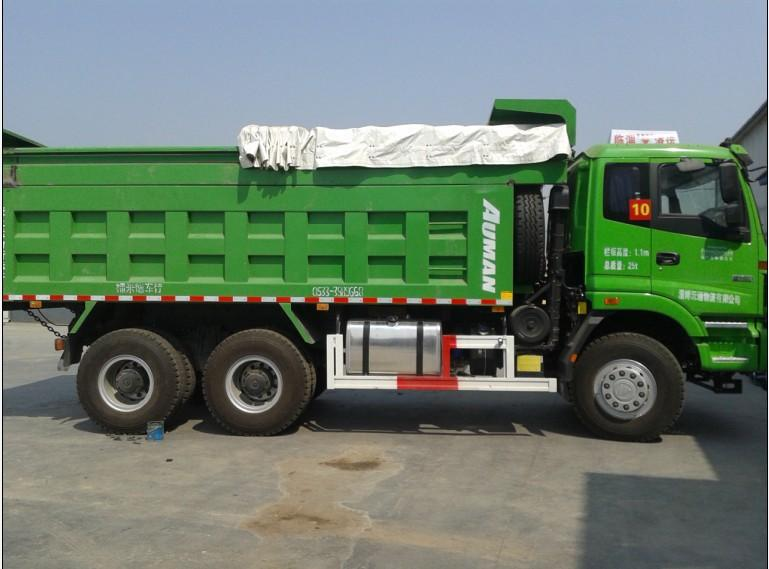truck: (3, 69, 766, 453)
